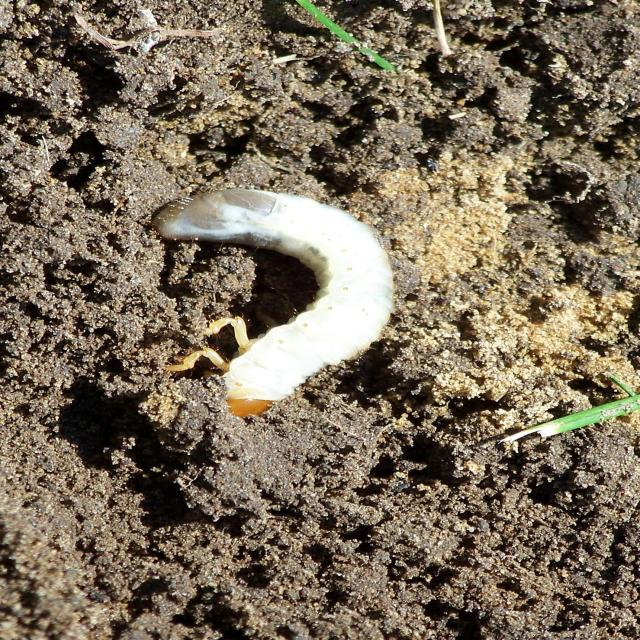grub: (144, 185, 392, 439)
